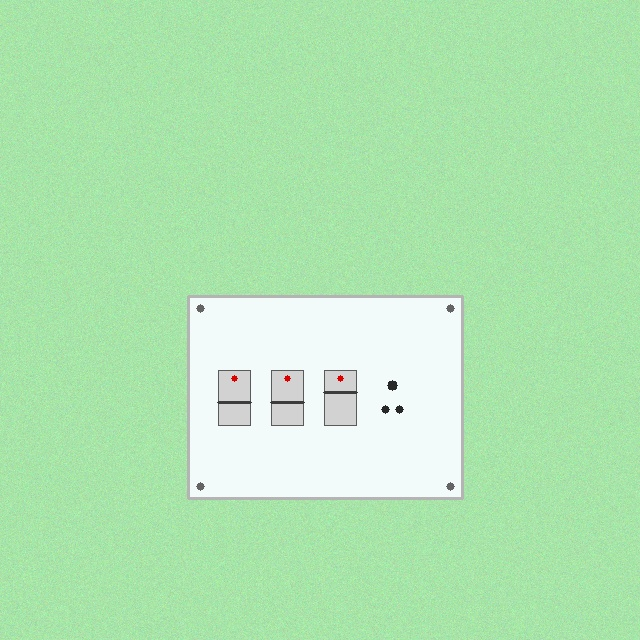switchboard: (188, 296, 462, 498)
